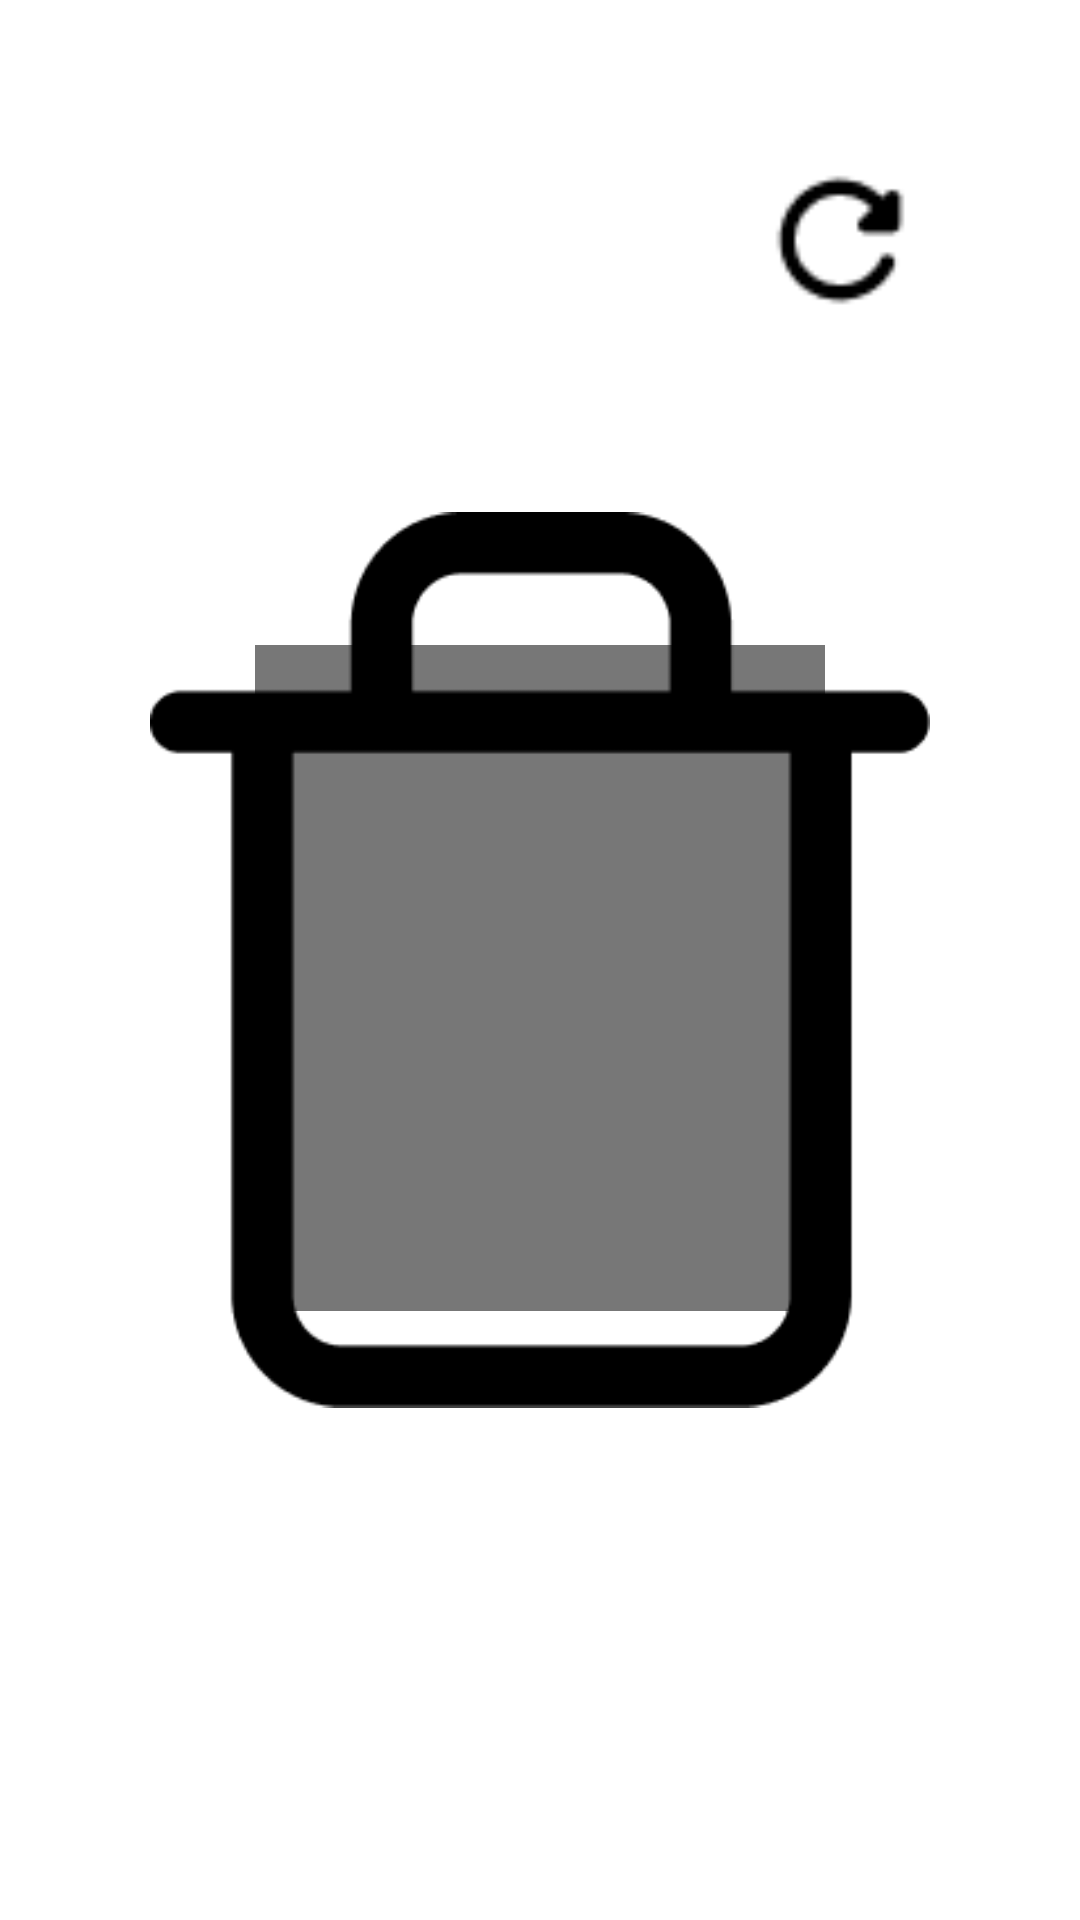

Locate icon controls on the screen. Image size 1080px×1920px, boxes as (left=x1, top=y1, right=x2, bottom=y2).
refresh: (left=776, top=176, right=904, bottom=304)
